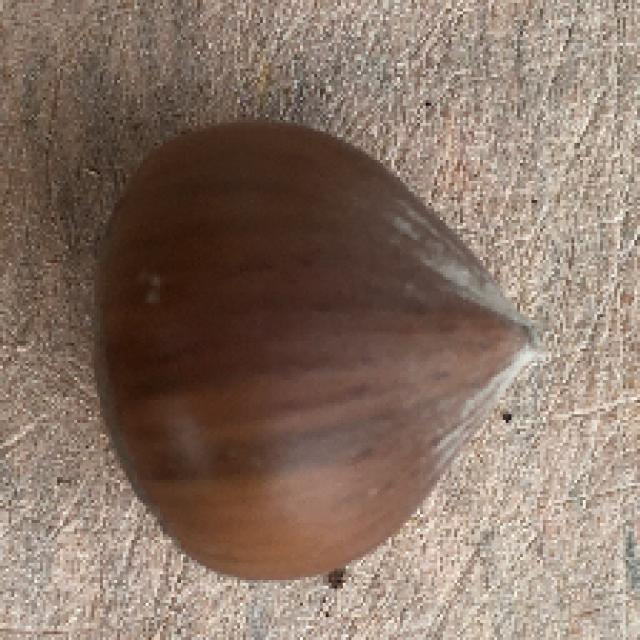qualityHazelnut: (77, 113, 548, 585)
